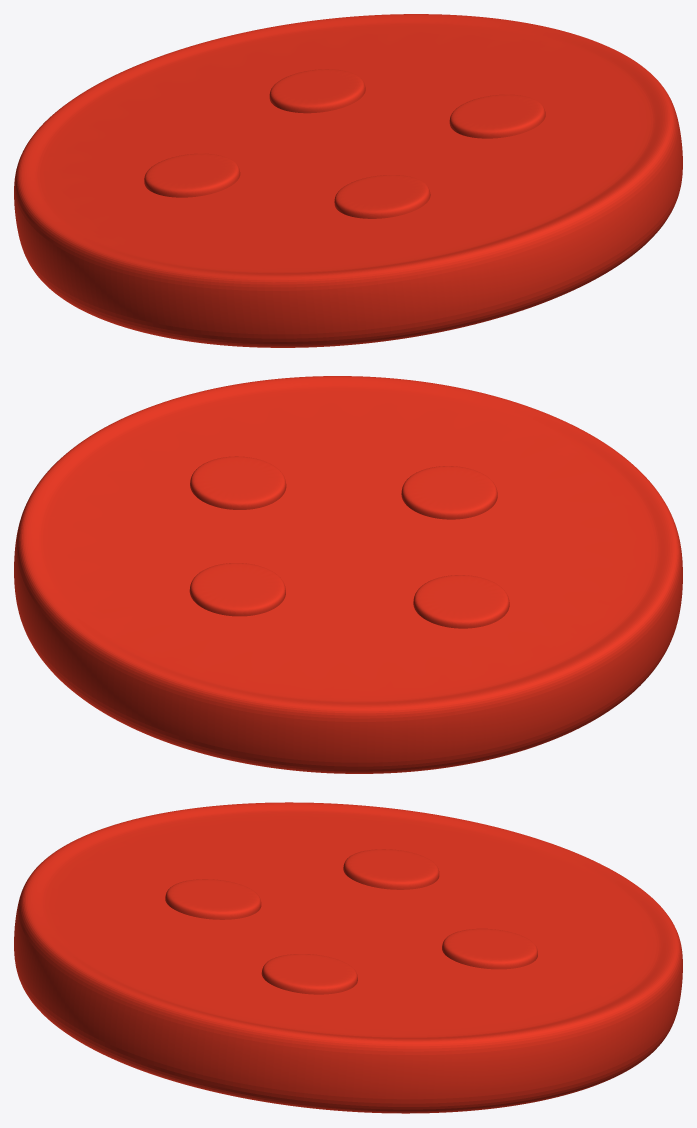
File: tommate_3.fbx
The picture shows the model from 3 angles, top to bottom: view 1: azimuth 30°, elevation 25°; view 2: azimuth 150°, elevation 25°; view 3: azimuth 270°, elevation 25°; orthographic projection.
Parts seen in each view (by area): view 1: tomato.006; view 2: tomato.006; view 3: tomato.006.
Part boxes in pixels (bbox=[...]): tomato.006: bbox=[14, 14, 682, 347]; tomato.006: bbox=[14, 376, 682, 773]; tomato.006: bbox=[14, 802, 682, 1113].
Size of the model in its own units: 106 by 22.94 by 106.
